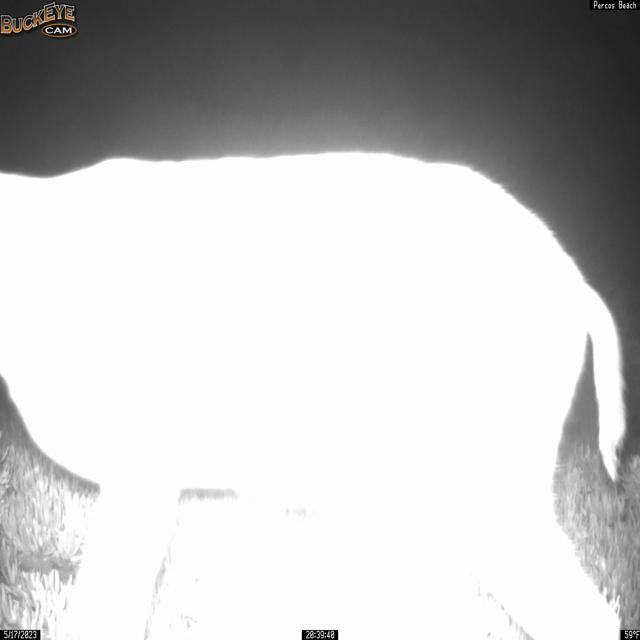deer: (0, 148, 628, 639)
